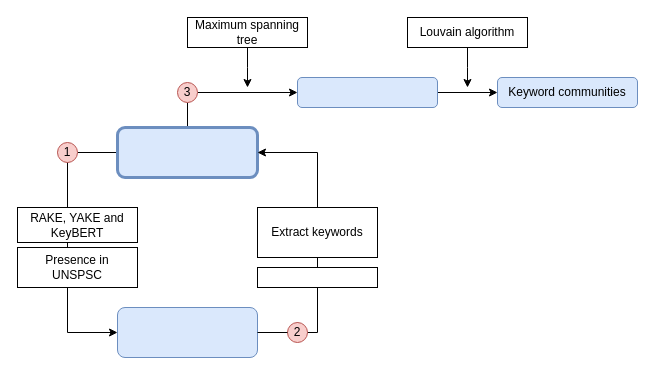
Image size: 655x375. Some labels were removed from this diagram. The shapes that lost their labels are listed below. From the top down, each one's centre as x and y in pixels, then its label:
At point 367,92: "Co-occurrence network".
At point 187,152: "Company descriptions in a sector".
At point 317,277: "Remove stop-words".
At point 187,332: "Keywords, frequencies and UNSPSC flag".
